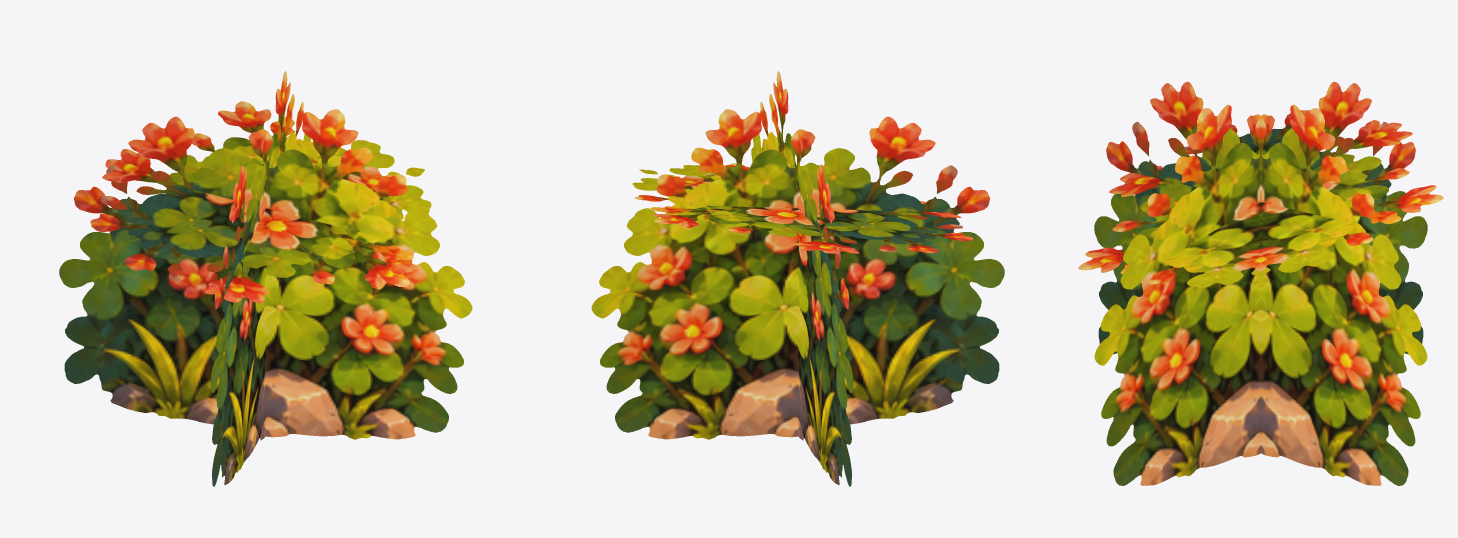
File: Bush5.fbx
3 views of the same model, side by side, from view 1: azimuth 30°, elevation 25°; view 2: azimuth 150°, elevation 25°; view 3: azimuth 270°, elevation 25° (orthographic). The views are drawn at different scales.
Parts seen in each view (by area): view 1: Bush5_Body; view 2: Bush5_Body; view 3: Bush5_Body.
Boxes of the visible parts, x1,y1,x2,y2 form: Bush5_Body: (59, 71, 472, 486); Bush5_Body: (591, 71, 1004, 486); Bush5_Body: (1078, 81, 1443, 485).
Bounding box in the file's own units: 1 × 0.95 × 0.8525.
1 material, 1 textured.
